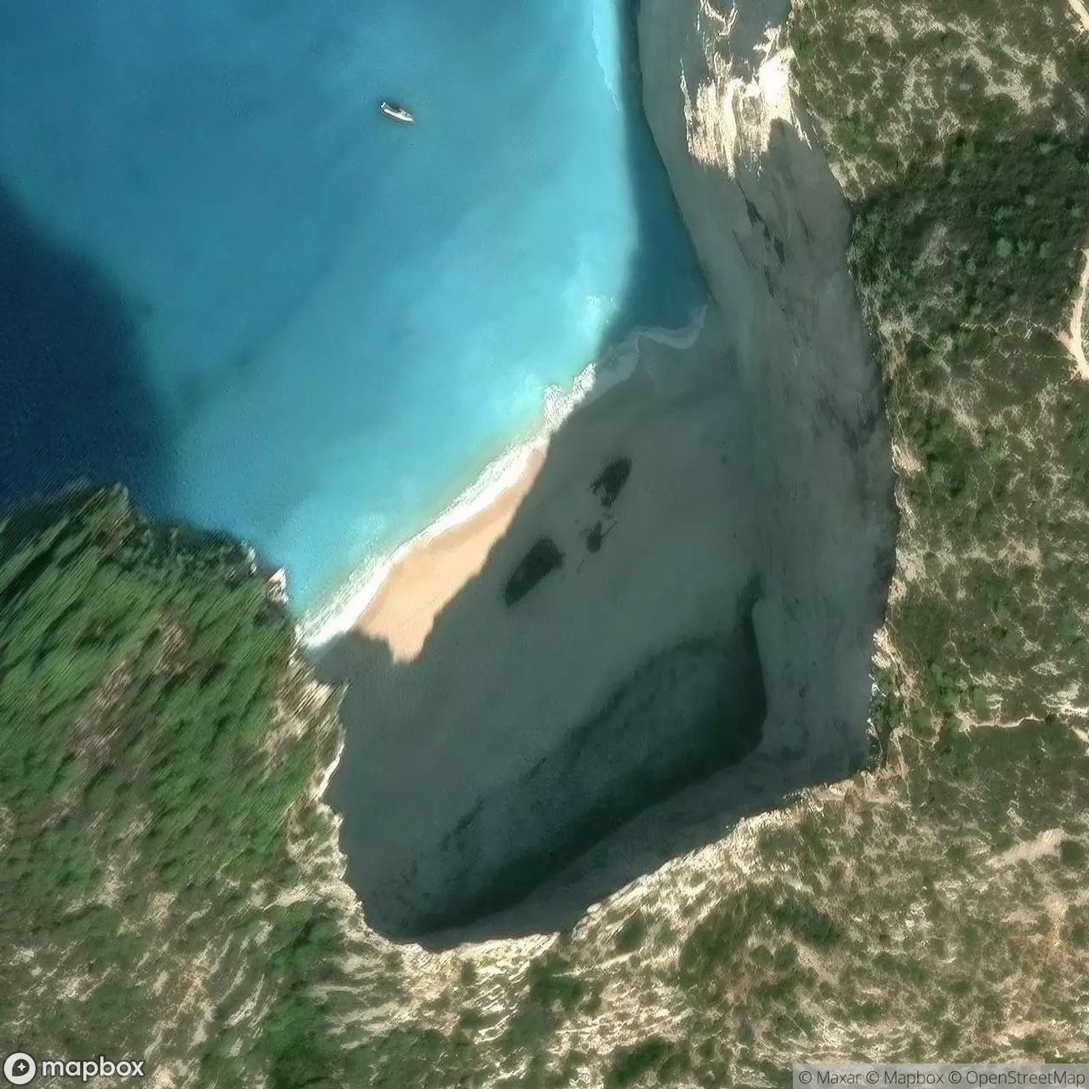Ship: (361, 91, 438, 134)
Wreck: (444, 552, 660, 687)
